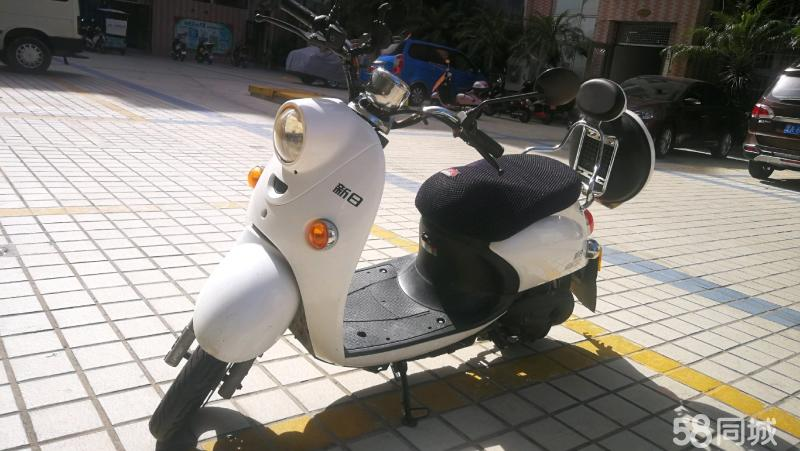电动车: (145, 4, 670, 444)
